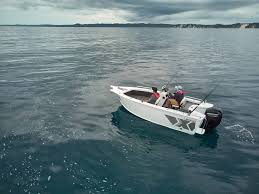boat: (110, 85, 222, 136)
